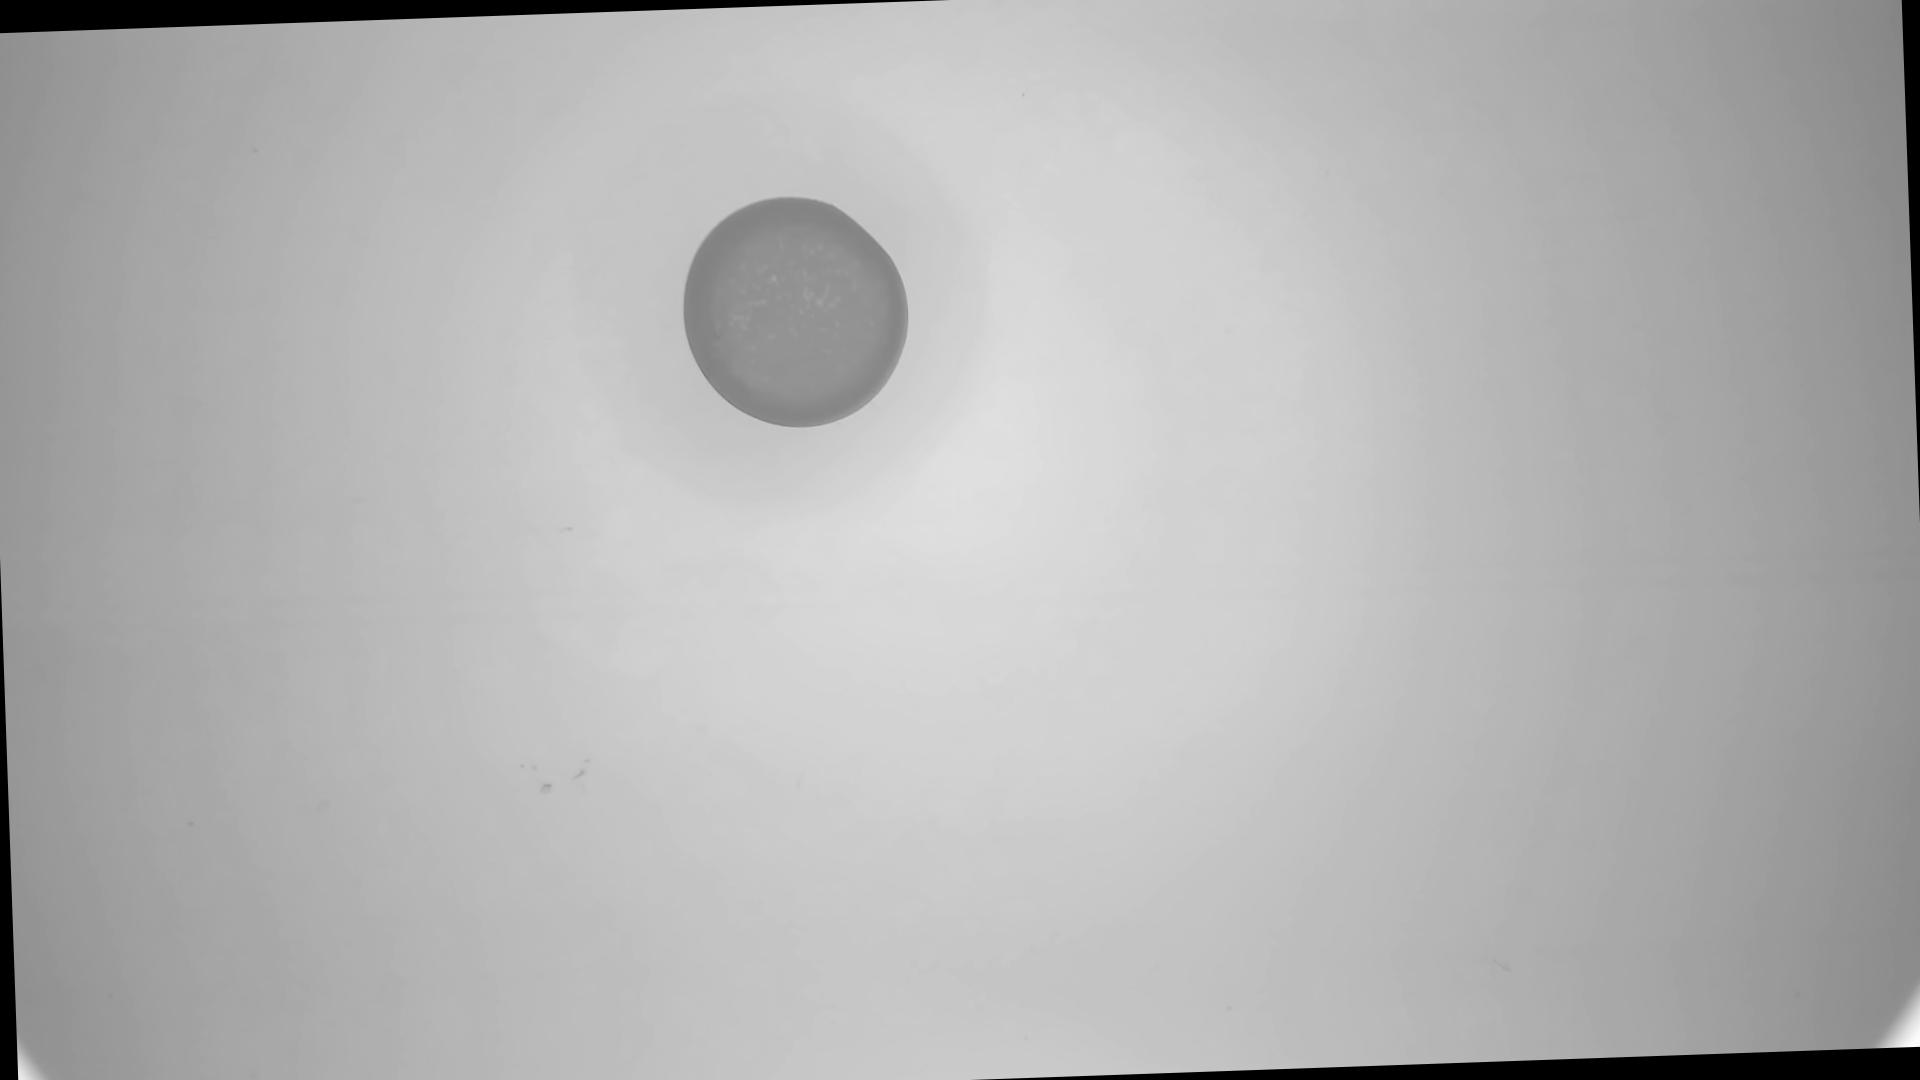normal: (680, 193, 918, 434)
